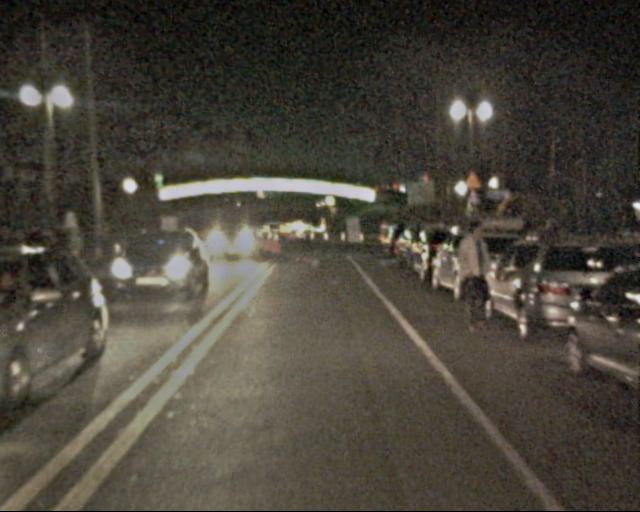person: (450, 221, 497, 336)
